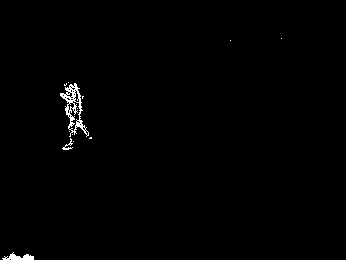person: (60, 80, 92, 153)
